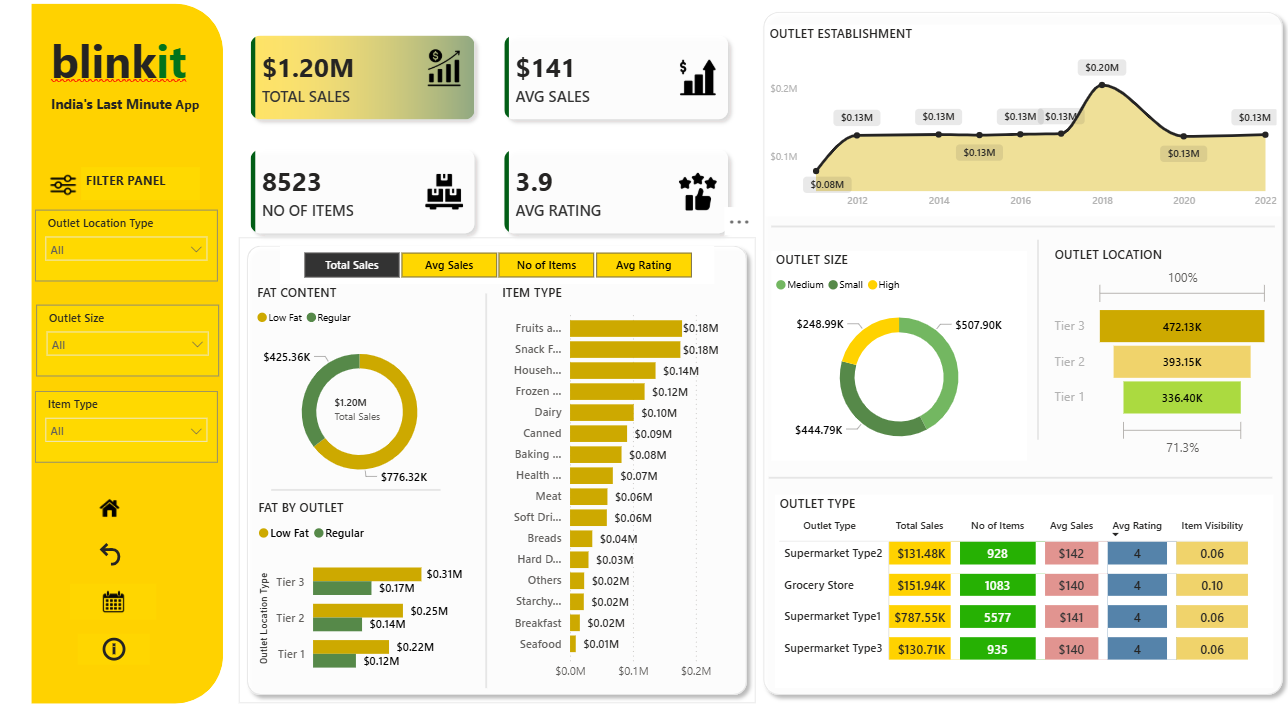

The dashboard page shown, as its layout file describes it:
{"tool":"powerbi","page":{"name":"Page 1","canvas":[1400,800],"ordinal":0},"visuals":[{"type":"shape","box":[39.4,24.2,205.9,750.9],"z":0},{"type":"textbox","box":[55,46.9,190.3,79.1],"z":1000},{"type":"textbox","box":[55,116.6,178.3,48.3],"z":2000},{"type":"cardVisual","fields":{"Data":["BlinkIT Grocery Data.Total Sales","BlinkIT Grocery Data.Avg Sales","BlinkIT Grocery Data.No of Items","BlinkIT Grocery Data.Avg Rating"]},"box":[244.6,30,570.3,270.2],"z":3000},{"type":"shape","box":[261.2,274.7,553.8,499.8],"z":4000},{"type":"donutChart","title":"FAT CONTENT","fields":{"Y":["BlinkIT Grocery Data.Total Sales"],"Category":["BlinkIT Grocery Data.Item Fat Content"]},"box":[276.2,324.2,230,230],"z":5000},{"type":"slicer","fields":{"Values":["Metrics.Metrics"]},"box":[306.2,283.7,465.3,40.5],"z":6000},{"type":"clusteredBarChart","title":"FAT BY OUTLET","fields":{"Y":["BlinkIT Grocery Data.Total Sales"],"Category":["BlinkIT Grocery Data.Outlet Location Type"],"Series":["BlinkIT Grocery Data.Item Fat Content"]},"box":[277.5,555,229.2,203.8],"z":7000},{"type":"cardVisual","fields":{"Data":["BlinkIT Grocery Data.Total Sales"]},"box":[334.7,424.7,114.1,67.5],"z":8000},{"type":"shape","box":[295.7,525.3,181.6,40.5],"z":9000},{"type":"shape","box":[514.8,334.7,24,423.2],"z":10000},{"type":"barChart","title":"ITEM TYPE","fields":{"Y":["BlinkIT Grocery Data.Total Sales"],"Category":["BlinkIT Grocery Data.Item Type"]},"box":[538.8,324.2,259.6,433.7],"z":11000},{"type":"shape","box":[815,24,574.8,750.4],"z":12000},{"type":"lineChart","title":"OUTLET ESTABLISHMENT","fields":{"Y":["BlinkIT Grocery Data.Total Sales"],"Category":["BlinkIT Grocery Data.Outlet Establishment Year"]},"box":[825.5,46.5,553.8,205.6],"z":13000},{"type":"shape","box":[833,252.1,540.3,22.5],"z":14000},{"type":"donutChart","title":"OUTLET SIZE","fields":{"Y":["BlinkIT Grocery Data.Total Sales"],"Category":["BlinkIT Grocery Data.Outlet Size"]},"box":[833,289.7,274.7,225.1],"z":15000},{"type":"shape","box":[1107.6,277.7,22.5,214.6],"z":16000},{"type":"funnel","title":"OUTLET LOCATION","fields":{"Y":["Sum(BlinkIT Grocery Data.Sales)"],"Category":["BlinkIT Grocery Data.Outlet Location Type"]},"box":[1131.7,283.7,240.1,231.1],"z":17000},{"type":"shape","box":[830,520.8,540.3,22.5],"z":18000},{"type":"pivotTable","title":"OUTLET TYPE","fields":{"Rows":["BlinkIT Grocery Data.Outlet Type"],"Values":["BlinkIT Grocery Data.Total Sales","BlinkIT Grocery Data.No of Items","BlinkIT Grocery Data.Avg Sales","BlinkIT Grocery Data.Avg Rating","Avg(BlinkIT Grocery Data.Item Visibility)"]},"box":[836,550.8,534.3,207.1],"z":19000},{"type":"slicer","fields":{"Values":["BlinkIT Grocery Data.Outlet Location Type"]},"box":[42.9,245.3,195.7,76.4],"z":20000},{"type":"slicer","fields":{"Values":["BlinkIT Grocery Data.Outlet Size"]},"box":[44.2,347.2,195.7,76.4],"z":21000},{"type":"slicer","fields":{"Values":["BlinkIT Grocery Data.Item Type"]},"box":[42.9,439.7,195.7,76.4],"z":22000},{"type":"textbox","box":[92.5,199.7,127.3,34.9],"z":23000},{"type":"actionButton","box":[72.4,545.6,100.5,40.2],"z":24000},{"type":"actionButton","box":[84.5,597.9,77.7,33.5],"z":25000},{"type":"actionButton","box":[80.4,646.1,92.5,38.9],"z":26000},{"type":"actionButton","box":[88.5,699.7,77.7,33.5],"z":27000},{"type":"actionButton","box":[21.4,191.7,101.9,50.9],"z":27001}]}

Visuals, with their boxes on the page's 1400x800 design canvas (x1, y1, x2, y2). These are canvas units, not pixel positions in the 1288x710 screenshot, which may show the page scaled, cropped or inside an application window:
shape: BBox(39, 24, 245, 775)
textbox: BBox(55, 47, 245, 126)
textbox: BBox(55, 117, 233, 165)
cardVisual - BlinkIT Grocery Data.Total Sales x BlinkIT Grocery Data.Avg Sales: BBox(245, 30, 815, 300)
shape: BBox(261, 275, 815, 774)
"FAT CONTENT" donutChart: BBox(276, 324, 506, 554)
slicer - Metrics.Metrics: BBox(306, 284, 772, 324)
"FAT BY OUTLET" clusteredBarChart: BBox(278, 555, 507, 759)
cardVisual - BlinkIT Grocery Data.Total Sales: BBox(335, 425, 449, 492)
shape: BBox(296, 525, 477, 566)
shape: BBox(515, 335, 539, 758)
"ITEM TYPE" barChart: BBox(539, 324, 798, 758)
shape: BBox(815, 24, 1390, 774)
"OUTLET ESTABLISHMENT" lineChart: BBox(826, 46, 1379, 252)
shape: BBox(833, 252, 1373, 275)
"OUTLET SIZE" donutChart: BBox(833, 290, 1108, 515)
shape: BBox(1108, 278, 1130, 492)
"OUTLET LOCATION" funnel: BBox(1132, 284, 1372, 515)
shape: BBox(830, 521, 1370, 543)
"OUTLET TYPE" pivotTable: BBox(836, 551, 1370, 758)
slicer - BlinkIT Grocery Data.Outlet Location Type: BBox(43, 245, 239, 322)
slicer - BlinkIT Grocery Data.Outlet Size: BBox(44, 347, 240, 424)
slicer - BlinkIT Grocery Data.Item Type: BBox(43, 440, 239, 516)
textbox: BBox(92, 200, 220, 235)
actionButton: BBox(72, 546, 173, 586)
actionButton: BBox(84, 598, 162, 631)
actionButton: BBox(80, 646, 173, 685)
actionButton: BBox(88, 700, 166, 733)
actionButton: BBox(21, 192, 123, 243)
